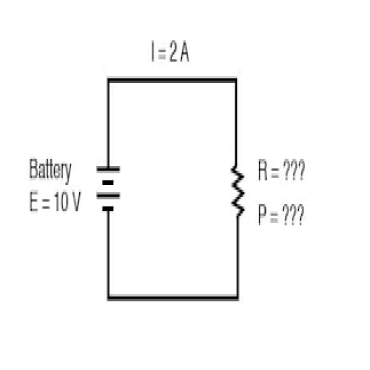Resistor: (230, 159, 306, 228)
Voltage Source: (29, 157, 121, 214)
